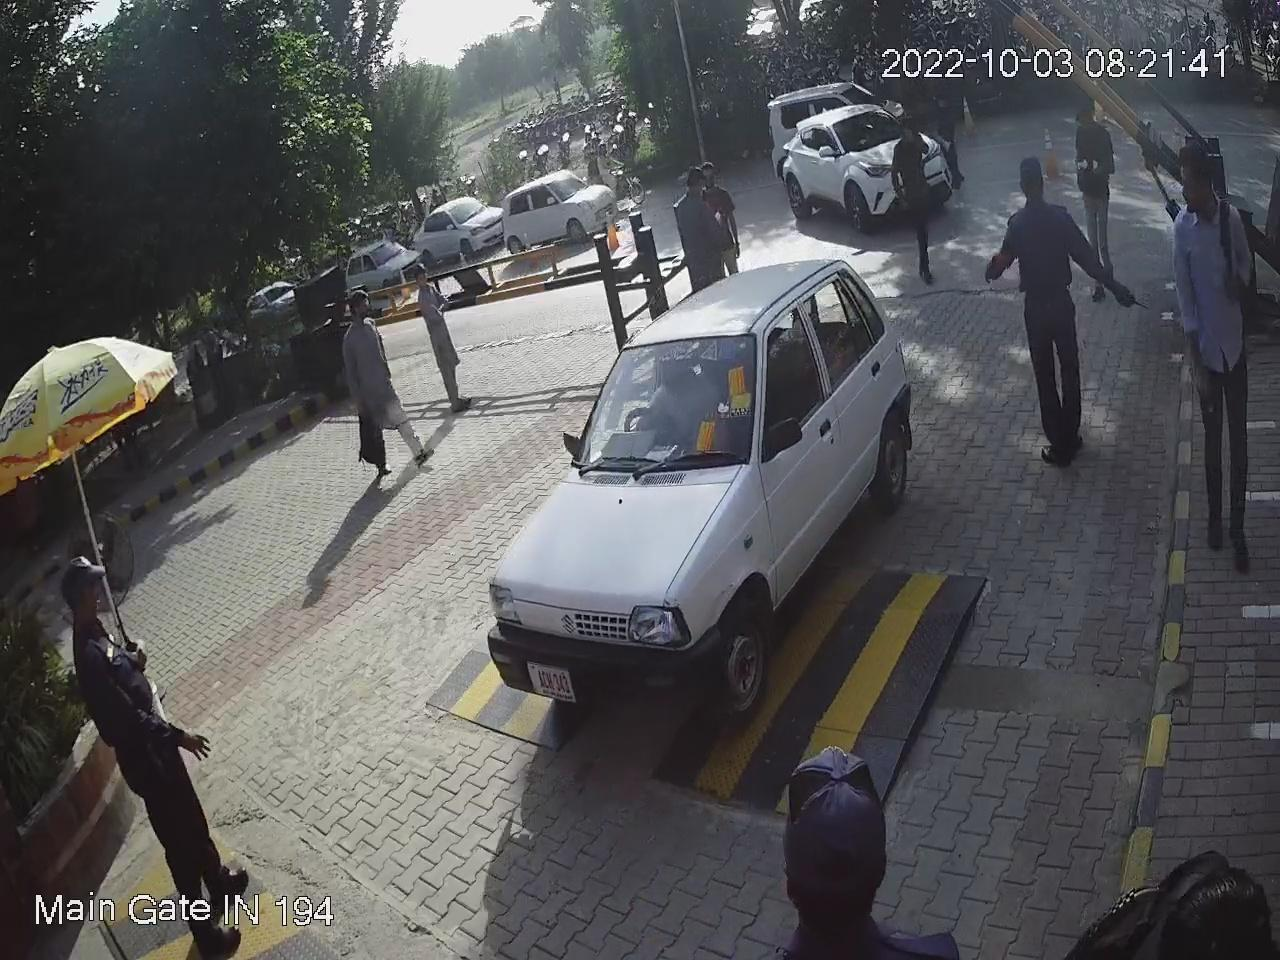windshield: (563, 328, 768, 482)
